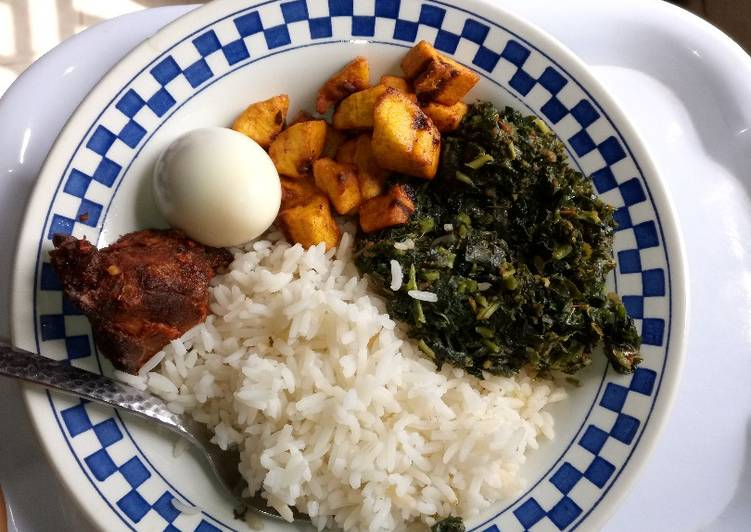curry: (396, 101, 650, 362), (267, 51, 482, 239), (54, 229, 216, 356)
egg: (153, 119, 293, 257)
rice: (182, 243, 554, 532)
